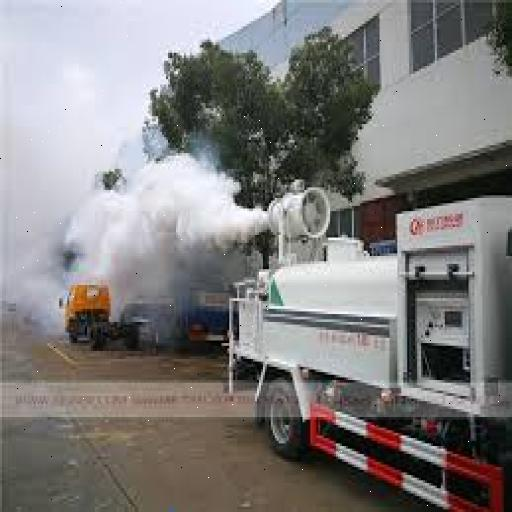smoke: (71, 169, 279, 288)
